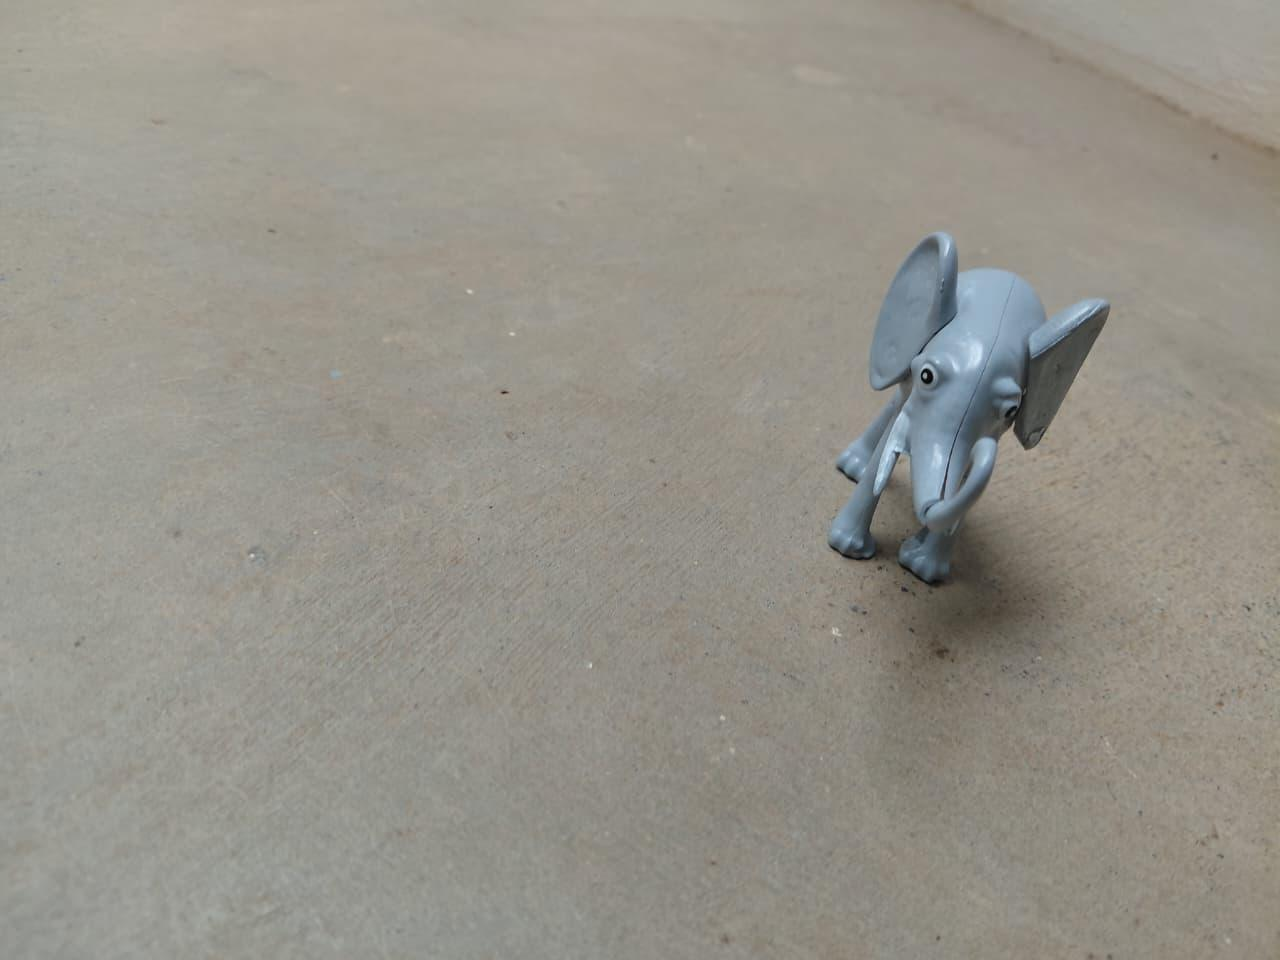elephant: (822, 223, 1123, 591)
